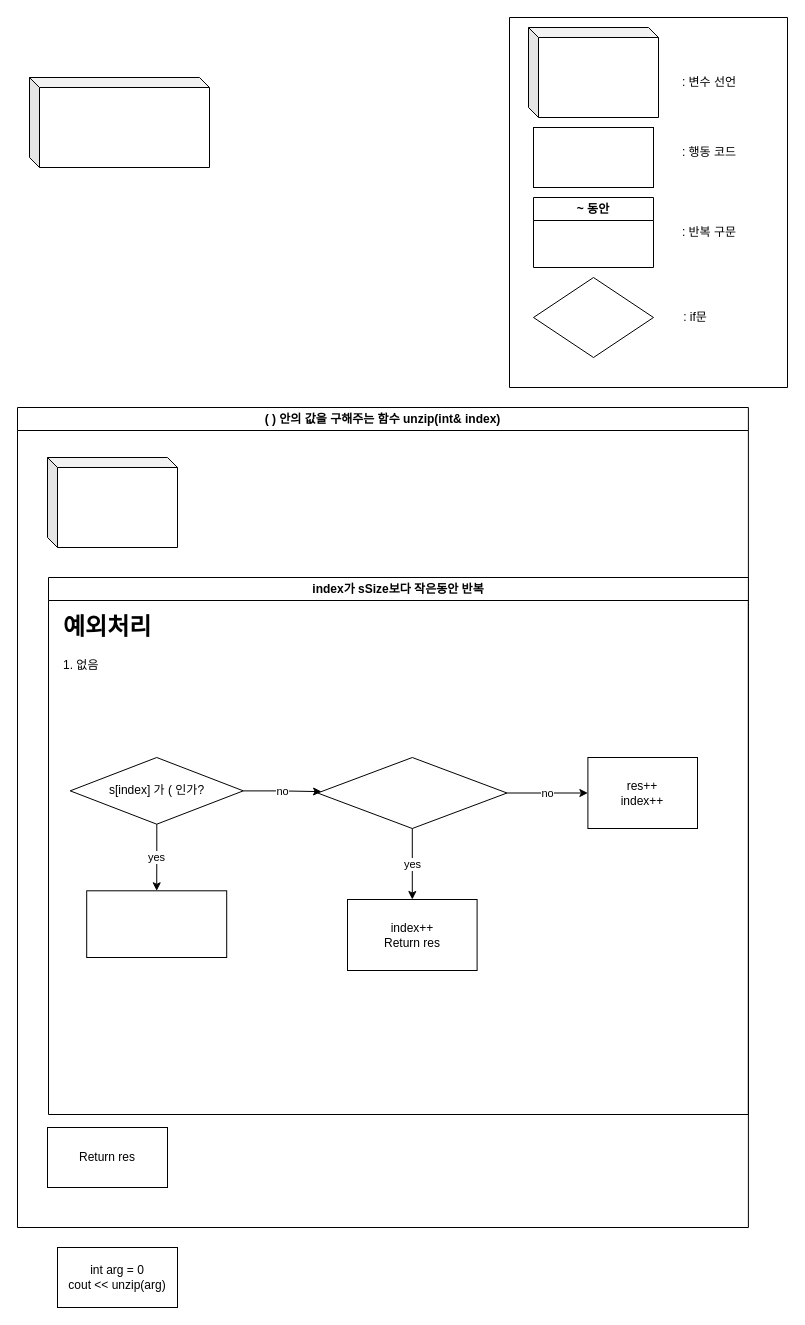
This 805x1325 diagram has some shape labels left out. The box of each missing label's shape, as (x1, y1, x2, y2) in pixels:
int res = 0;: (46, 456, 178, 548)
res-- index++ res += s[index - 1] * unzip(&index): (86, 890, 227, 958)
s[index]가 )인가?: (317, 756, 507, 828)
string s; int sSize = s.length();: (28, 76, 210, 168)
